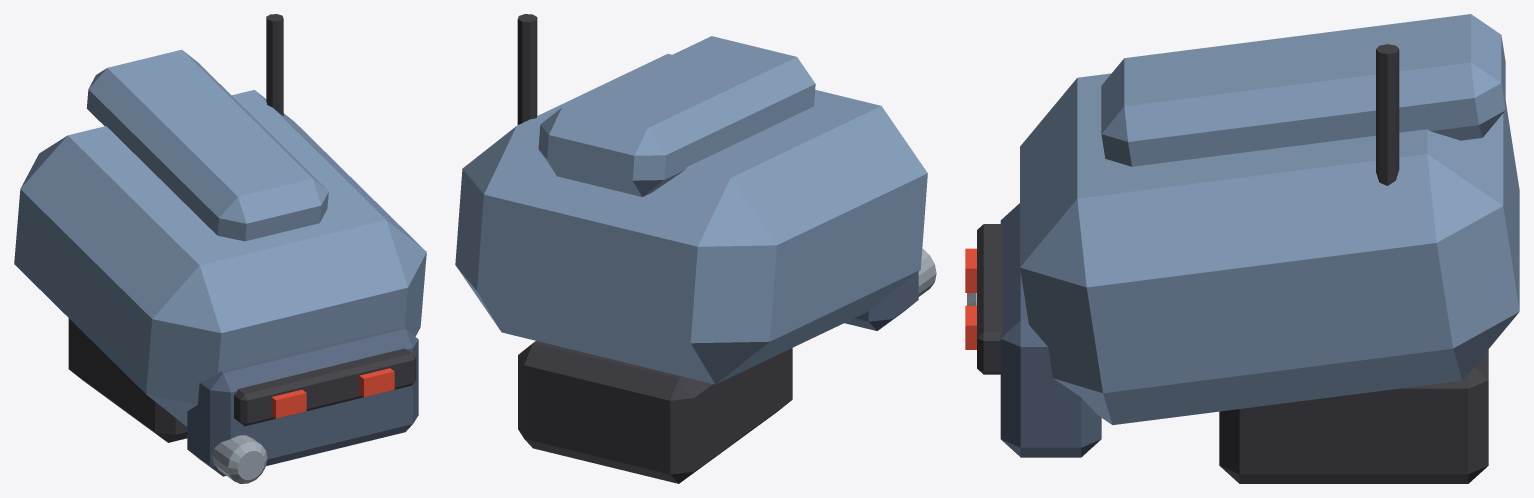
Rendered from recon_head.glb.
3 views of the same model, side by side, from view 1: azimuth 30°, elevation 25°; view 2: azimuth 150°, elevation 25°; view 3: azimuth 270°, elevation 25° (orthographic). The views are drawn at different scales.
Visible parts, largest first — view 1: HeadHood, HeadCrest, HeadFace, HeadVisor, HeadNeck, HeadCamera, HeadAerial, HeadEyeR, HeadEyeL; view 2: HeadHood, HeadCrest, HeadNeck, HeadAerial, HeadFace, HeadCamera; view 3: HeadHood, HeadCrest, HeadNeck, HeadFace, HeadVisor, HeadAerial.
Boxes of the visible parts, x1,y1,x2,y2 form: HeadHood: (14, 90, 426, 426); HeadCrest: (86, 49, 328, 241); HeadFace: (187, 326, 418, 476); HeadVisor: (234, 348, 416, 426); HeadNeck: (68, 318, 187, 442); HeadCamera: (212, 435, 267, 483); HeadAerial: (266, 14, 283, 116); HeadEyeR: (271, 389, 306, 418); HeadEyeL: (359, 368, 394, 396); HeadHood: (455, 54, 927, 384); HeadCrest: (538, 36, 815, 196); HeadNeck: (518, 341, 792, 483); HeadAerial: (517, 14, 537, 124); HeadFace: (844, 271, 918, 330); HeadCamera: (918, 248, 936, 296); HeadHood: (1020, 73, 1519, 425); HeadCrest: (1101, 14, 1505, 166); HeadNeck: (1219, 349, 1488, 483); HeadFace: (1000, 203, 1101, 457); HeadVisor: (977, 224, 1002, 374); HeadAerial: (1376, 44, 1399, 185).
Bounding box in the file's own units: 1.25 × 1.5 × 1.65.
